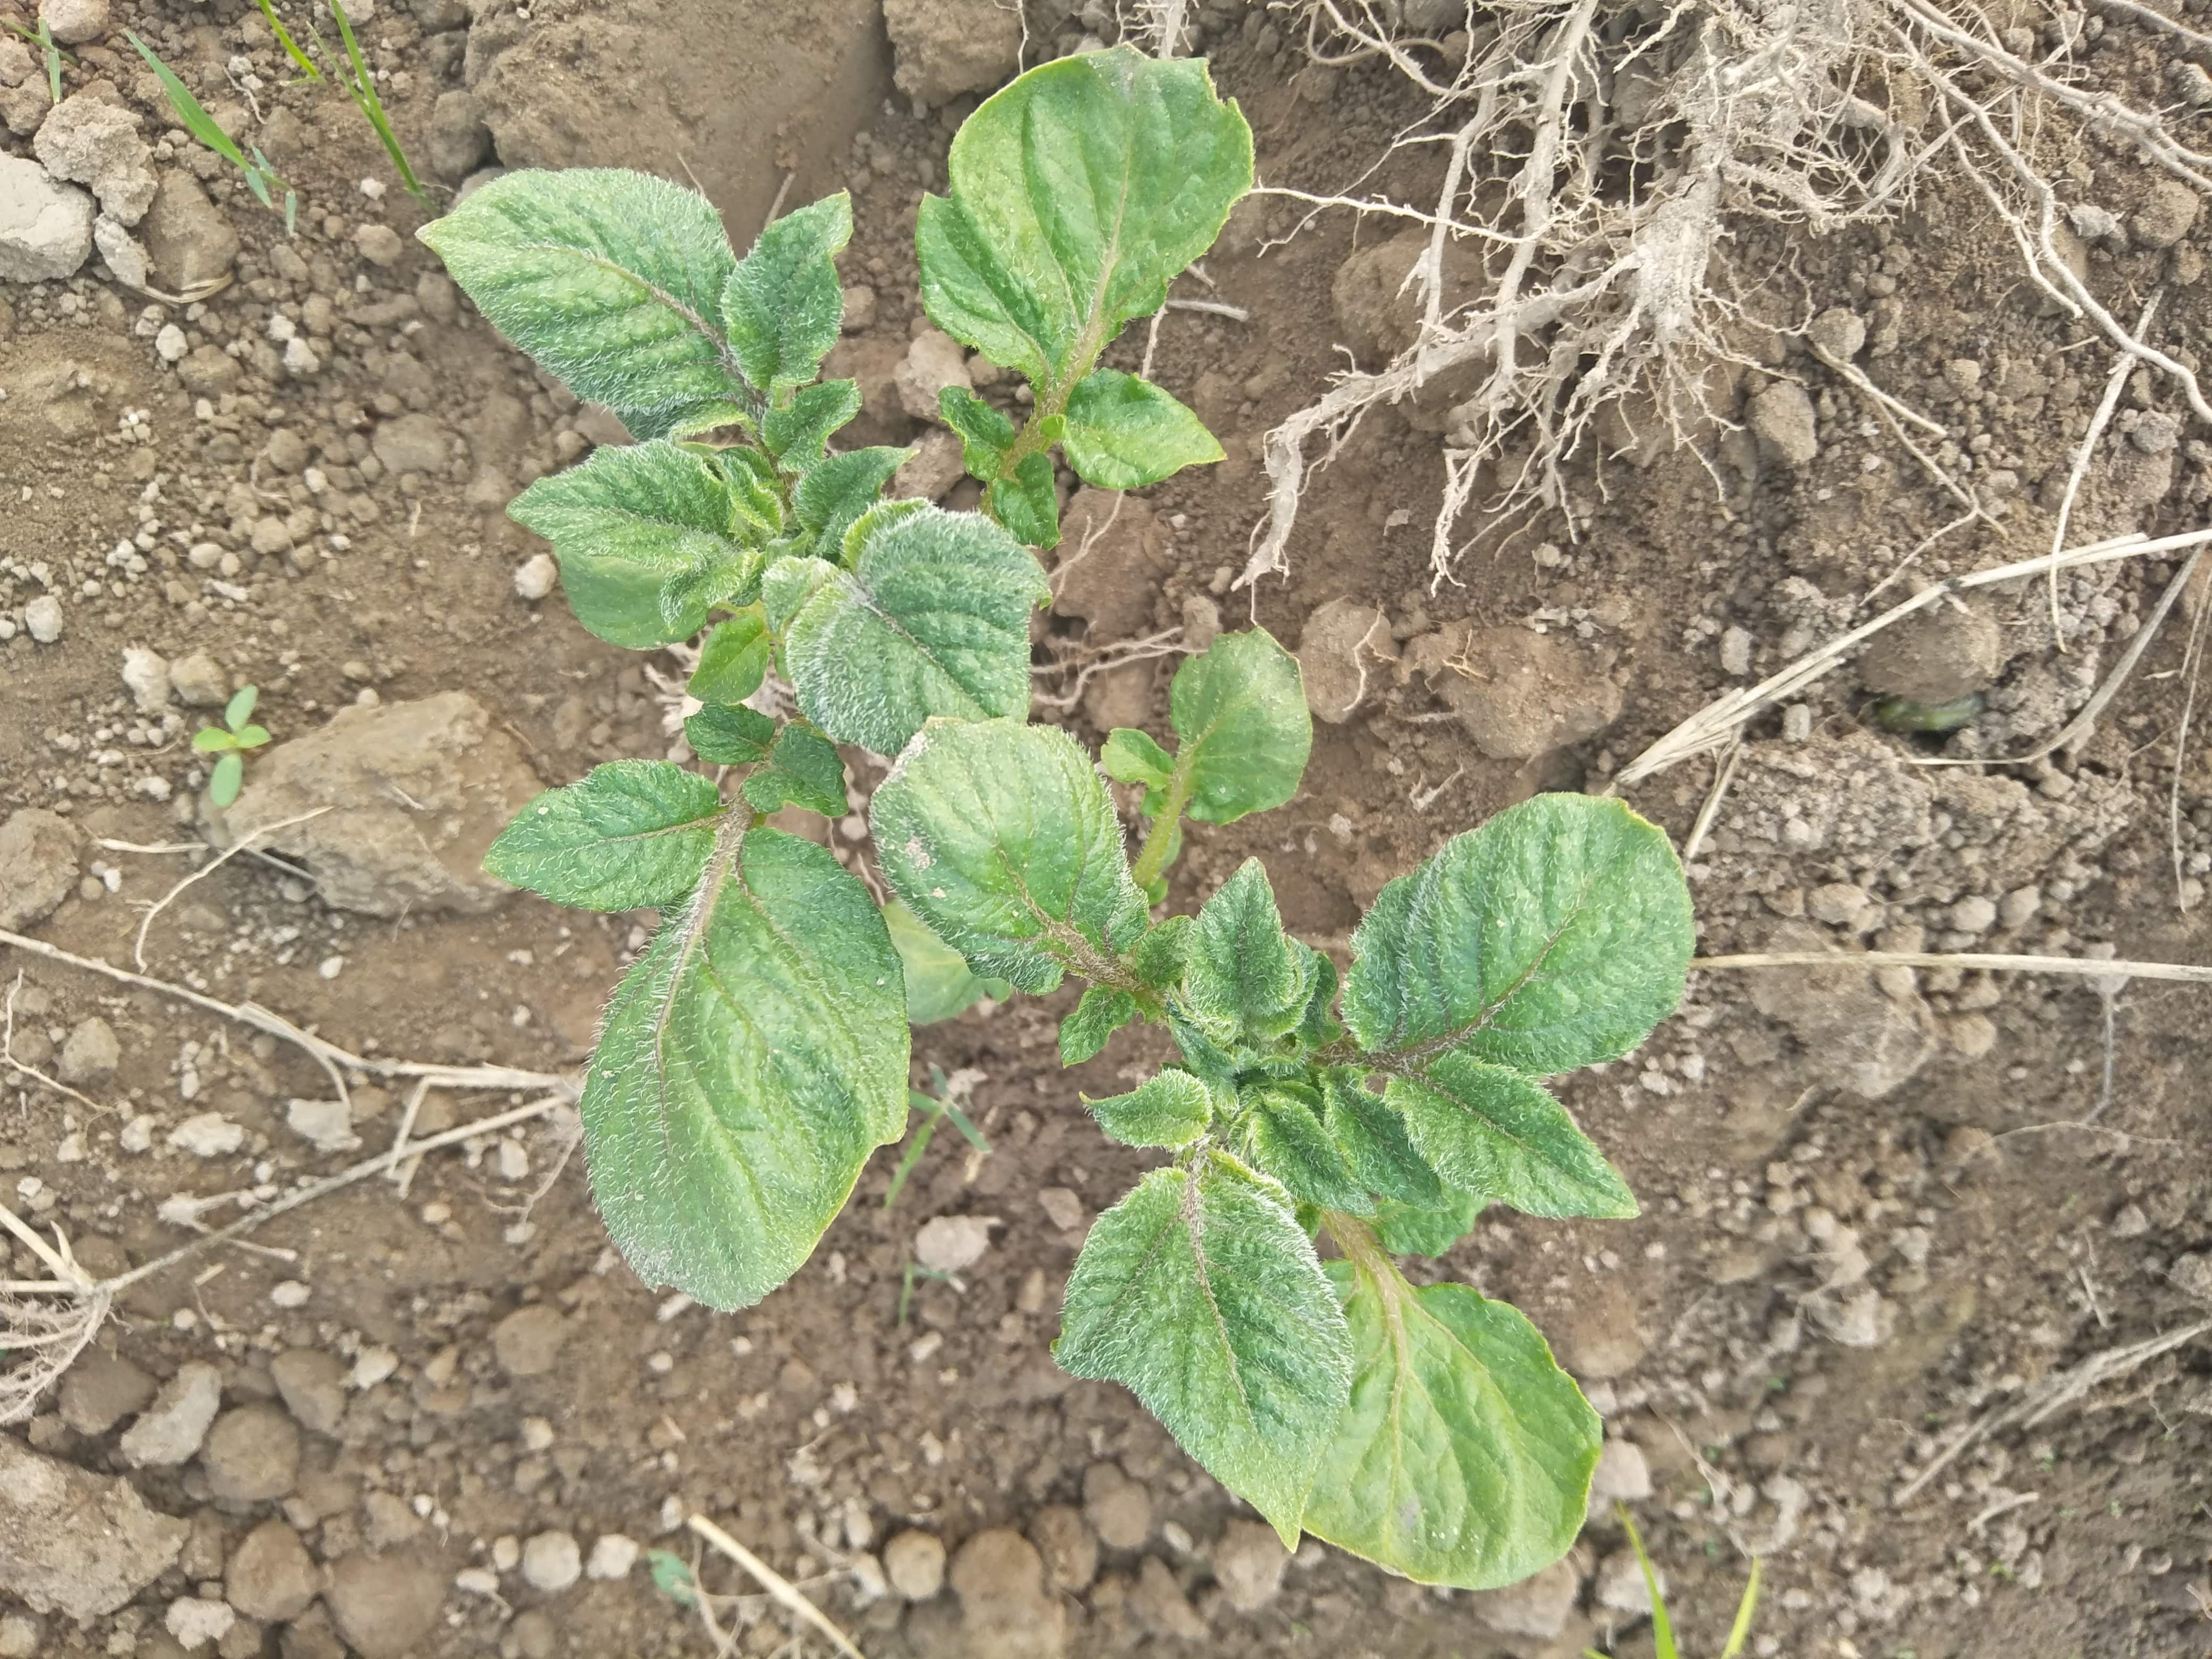daun: (578, 833, 900, 1298), (1066, 1173, 1341, 1549), (918, 49, 1238, 369), (1343, 789, 1695, 1065), (855, 720, 1146, 1002), (1338, 1286, 1602, 1593), (425, 181, 737, 420), (792, 519, 1043, 751), (514, 436, 772, 631), (1393, 1054, 1639, 1216), (475, 763, 712, 903), (712, 195, 855, 394), (1176, 627, 1301, 810), (1195, 866, 1301, 1058), (1054, 373, 1224, 479), (1080, 1073, 1209, 1147)
